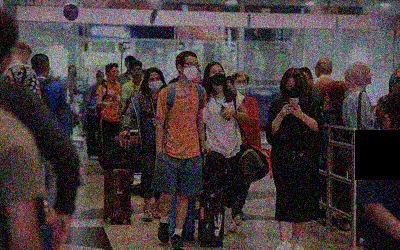with_mask: (182, 60, 200, 82), (209, 68, 225, 87), (285, 82, 302, 99), (148, 75, 164, 92), (234, 79, 249, 95), (68, 67, 76, 77)
without_mask: (131, 66, 143, 79), (109, 68, 119, 81), (367, 66, 373, 85), (193, 70, 200, 83), (226, 80, 234, 91)
